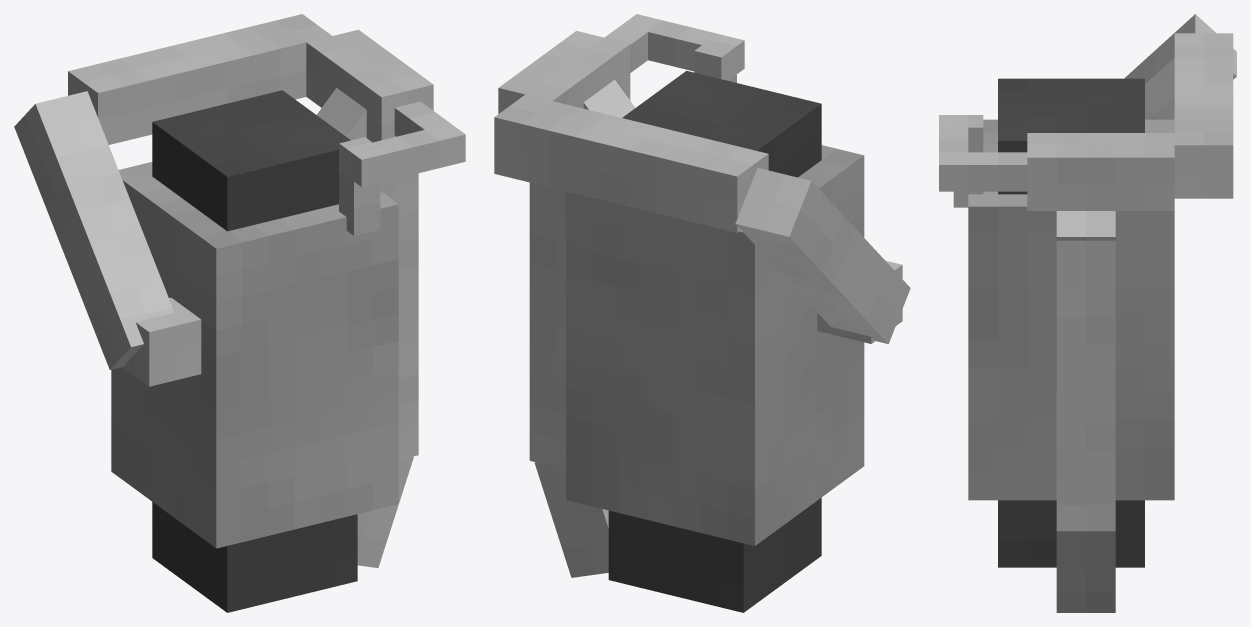
Rendered from combustion_chamber.obj.
The picture shows the model from 3 angles, left to right: view 1: azimuth 30°, elevation 25°; view 2: azimuth 150°, elevation 25°; view 3: azimuth 270°, elevation 25°; orthographic projection. The views are drawn at different scales.
Visible parts, largest first — view 1: CombustionChamber; view 2: CombustionChamber; view 3: CombustionChamber.
Boxes of the visible parts, x1,y1,x2,y2 form: CombustionChamber: [14, 14, 465, 612]; CombustionChamber: [494, 14, 910, 612]; CombustionChamber: [939, 14, 1236, 612].
Bounding box in the file's own units: 0.765 × 1.11 × 0.6326.
